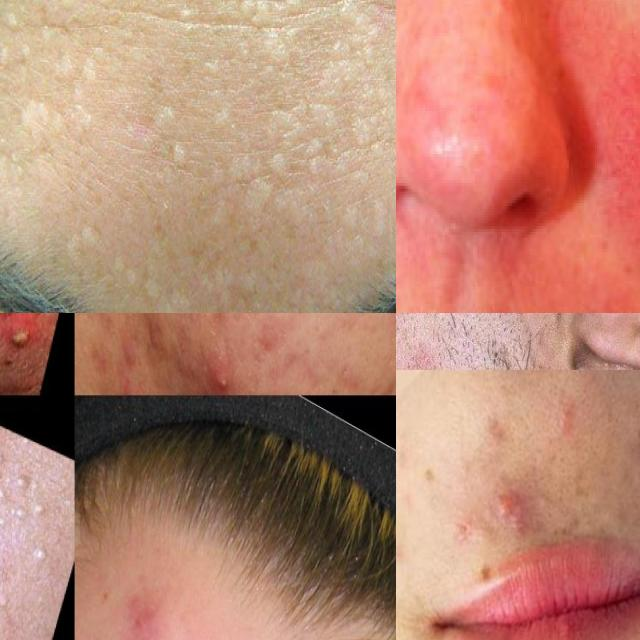acne_scars: (366, 329, 396, 395)
comedone: (313, 351, 364, 395), (527, 476, 557, 524)
flat_wart: (213, 129, 327, 238), (0, 30, 100, 147), (264, 84, 342, 181), (76, 222, 165, 307), (317, 0, 385, 89), (140, 86, 192, 176), (194, 42, 238, 136), (349, 87, 396, 160), (236, 0, 313, 37)
milium: (0, 466, 52, 536), (23, 538, 52, 570)
papule: (114, 569, 172, 640), (484, 458, 522, 541)
pustule: (2, 313, 38, 371)
sebo-crystan-conglo: (199, 353, 251, 395), (106, 366, 170, 395)
